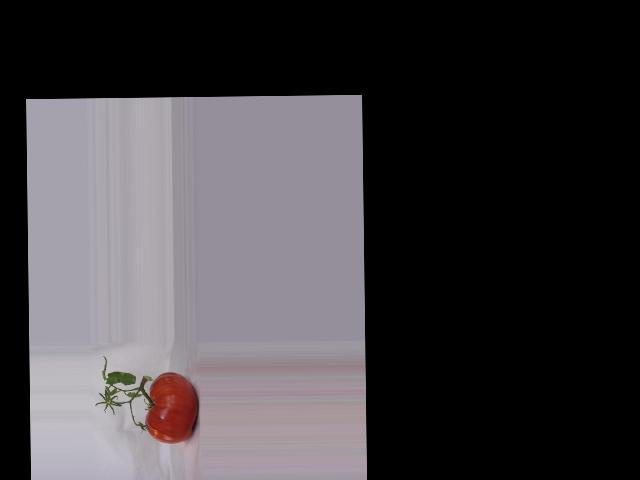tomato: (145, 371, 198, 444)
